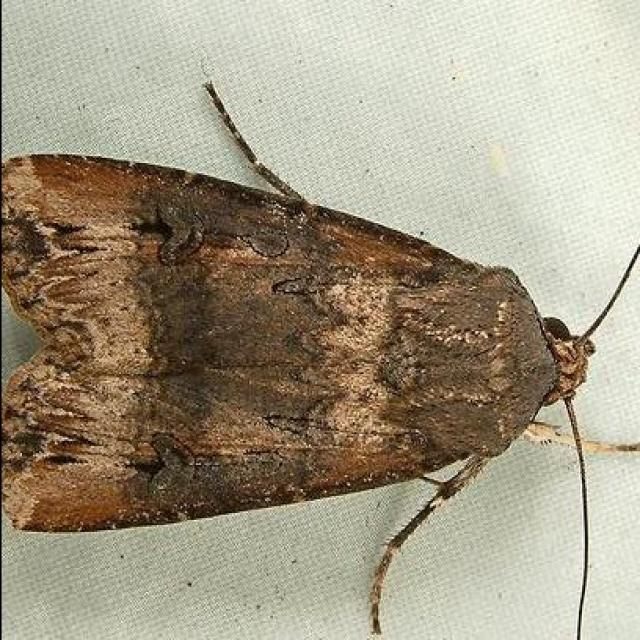black cutworm: (7, 143, 616, 576)
